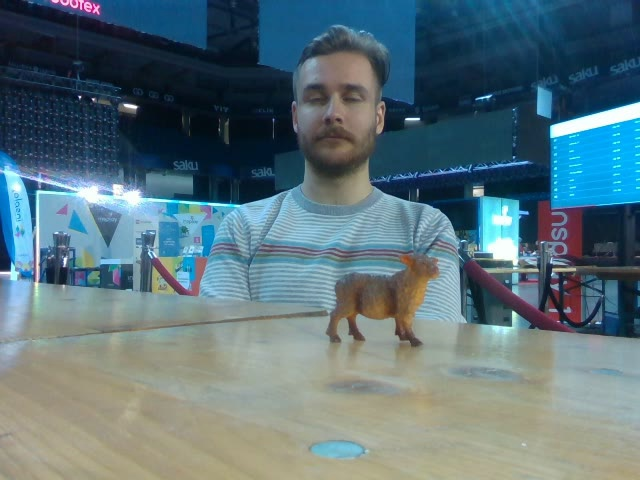toy: (325, 251, 442, 351)
